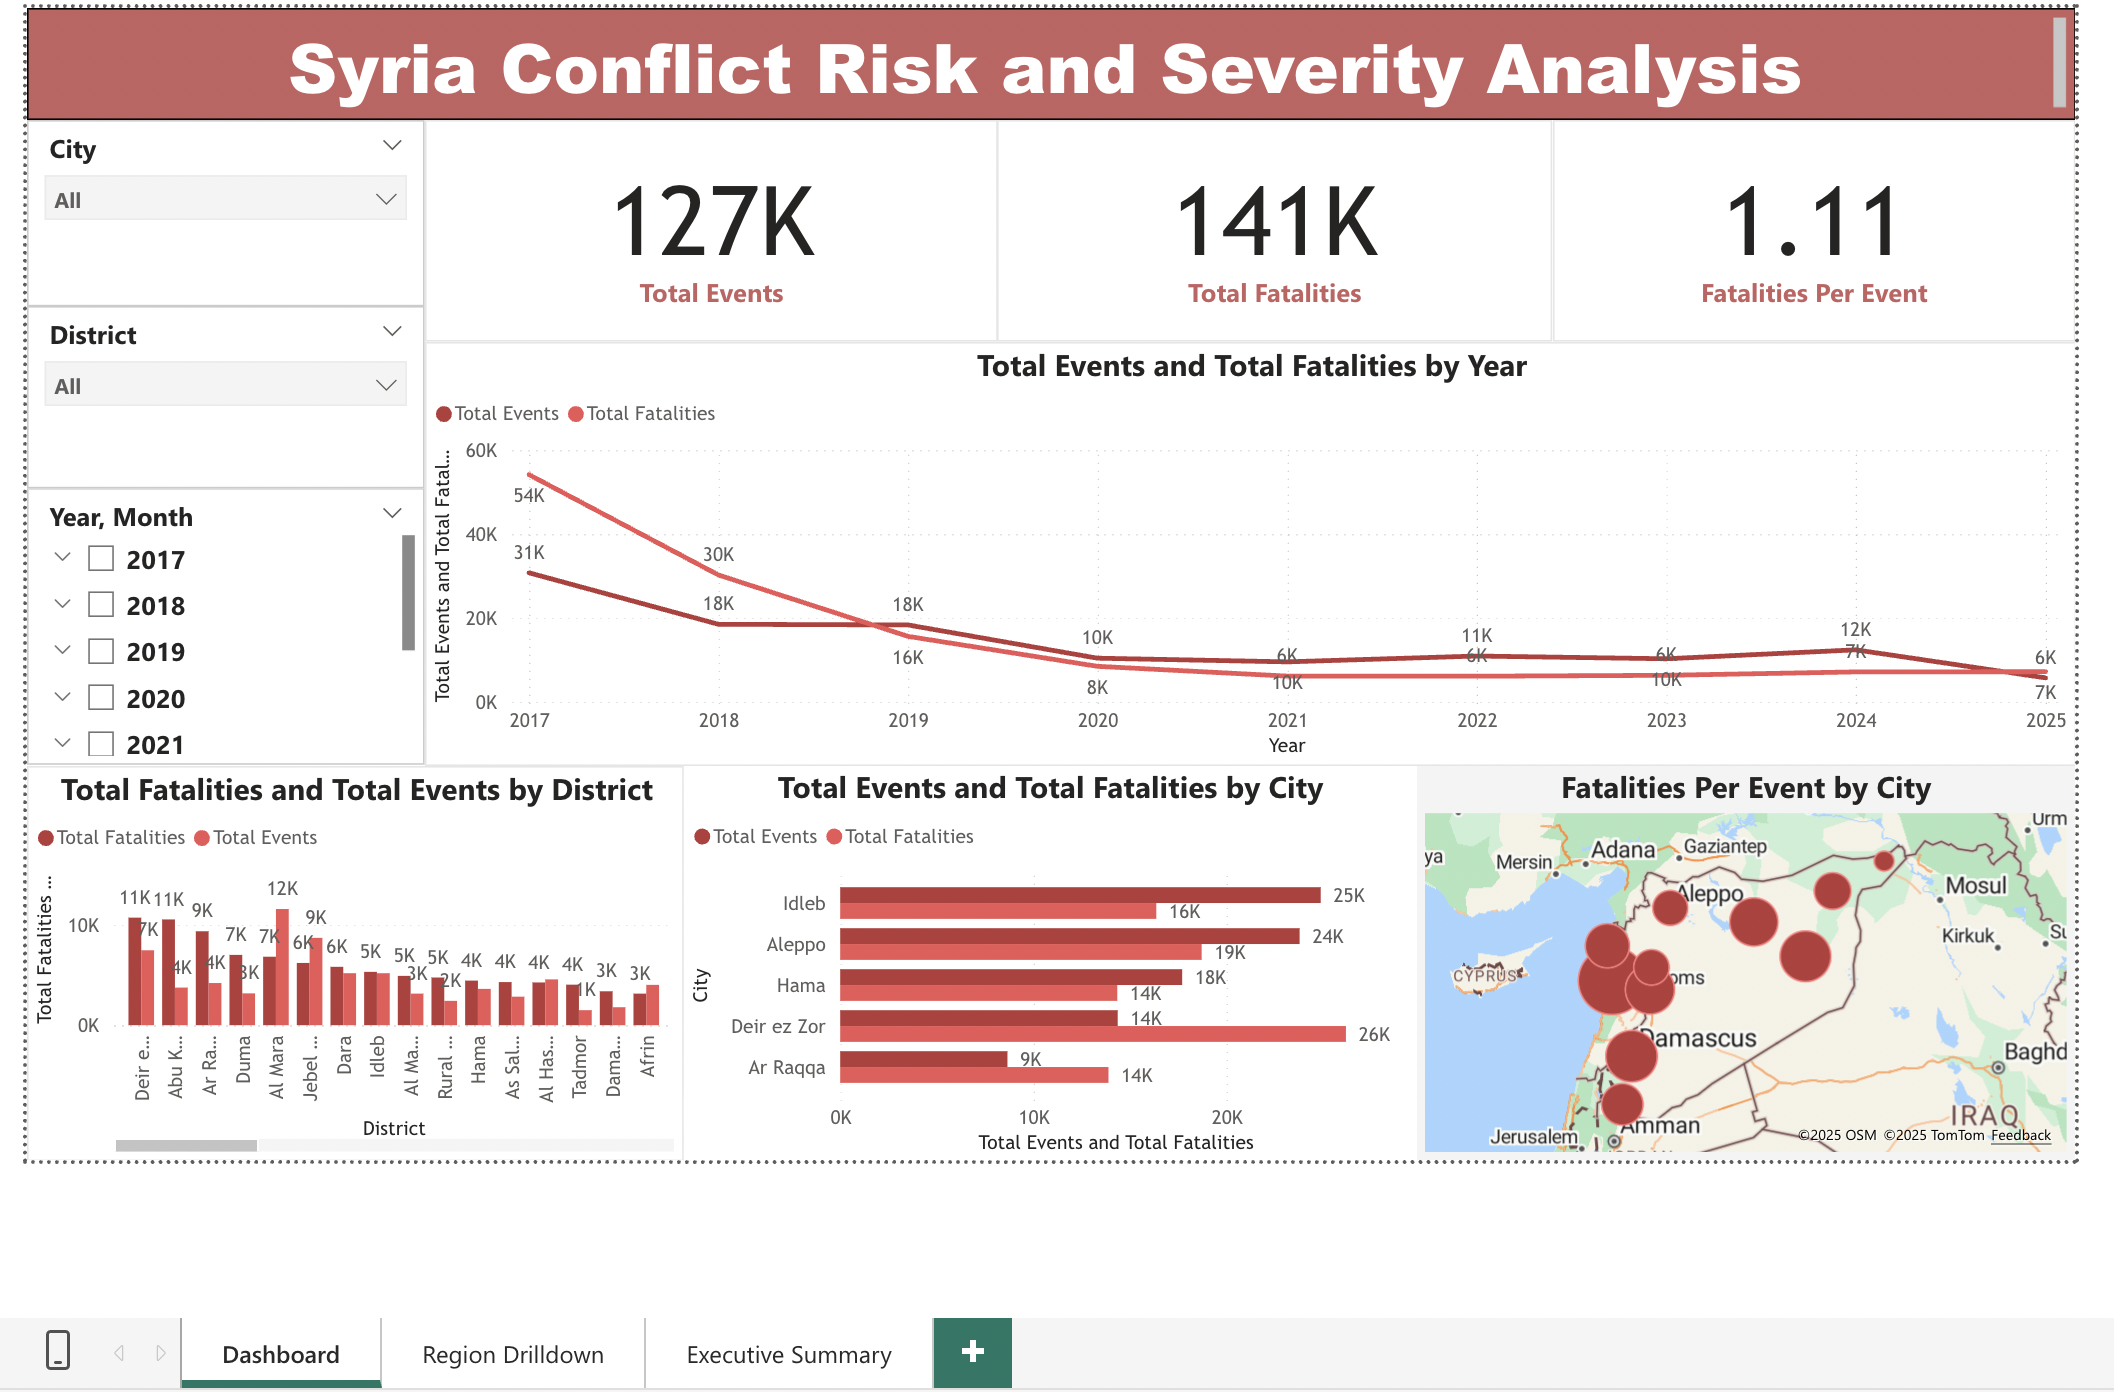

The page's visual inventory and layout, read from the dashboard file:
{"tool":"powerbi","page":{"name":"Dashboard","canvas":[1280,720],"ordinal":0},"visuals":[{"type":"lineChart","fields":{"Y":["Table1_1.Total Events","Table1_1.Total Fatalities"],"Category":["Table1_1.Date.Variation.Date Hierarchy.Year","Table1_1.Date.Variation.Date Hierarchy.Month"]},"box":[248.4,208.6,1031.9,264.8],"z":0},{"type":"azureMap","fields":{"Category":["Table1_1.Admin1"],"Size":["Table1_1.Fatalities Per Event"]},"box":[868.6,474.1,411.4,246.1],"z":1000},{"type":"card","fields":{"Values":["Table1_1.Total Events"]},"box":[248.4,70,358.1,138.6],"z":2000},{"type":"card","fields":{"Values":["Table1_1.Total Fatalities"]},"box":[606.5,70,347.2,138.6],"z":3000},{"type":"card","fields":{"Values":["Table1_1.Fatalities Per Month"]},"box":[953.7,70,326.6,138.6],"z":4000},{"type":"clusteredBarChart","fields":{"Category":["Table1_1.Admin1"],"Y":["Table1_1.Total Events","Table1_1.Total Fatalities"]},"box":[411.7,473.4,456.9,247],"z":5000},{"type":"clusteredColumnChart","fields":{"Category":["Table1_1.Governorate"],"Y":["Table1_1.Total Fatalities","Table1_1.Total Events"]},"box":[0,473.4,410.3,247],"z":6000},{"type":"textbox","box":[0,0,1280.3,70],"z":7000},{"type":"slicer","fields":{"Values":["Table1_1.Year","Table1_1.Month"]},"box":[0,300.5,248.4,172.9],"z":8000},{"type":"slicer","fields":{"Values":["Table1_1.City"]},"box":[0,70,248.4,116.6],"z":9000},{"type":"slicer","fields":{"Values":["Table1_1.Governorate"]},"box":[0,186.6,248.4,113.9],"z":10000}]}

Visuals, with their boxes on the page's 1280x720 design canvas (x1, y1, x2, y2). These are canvas units, not pixel positions in the 2114x1392 screenshot, which may show the page scaled, cropped or inside an application window:
lineChart - Table1_1.Total Events x Table1_1.Total Fatalities: <region>248, 209, 1280, 473</region>
azureMap - Table1_1.Admin1 x Table1_1.Fatalities Per Event: <region>869, 474, 1280, 720</region>
card - Table1_1.Total Events: <region>248, 70, 606, 209</region>
card - Table1_1.Total Fatalities: <region>606, 70, 954, 209</region>
card - Table1_1.Fatalities Per Month: <region>954, 70, 1280, 209</region>
clusteredBarChart - Table1_1.Admin1 x Table1_1.Total Events: <region>412, 473, 869, 720</region>
clusteredColumnChart - Table1_1.Governorate x Table1_1.Total Fatalities: <region>0, 473, 410, 720</region>
textbox: <region>0, 0, 1280, 70</region>
slicer - Table1_1.Year x Table1_1.Month: <region>0, 300, 248, 473</region>
slicer - Table1_1.City: <region>0, 70, 248, 187</region>
slicer - Table1_1.Governorate: <region>0, 187, 248, 300</region>
